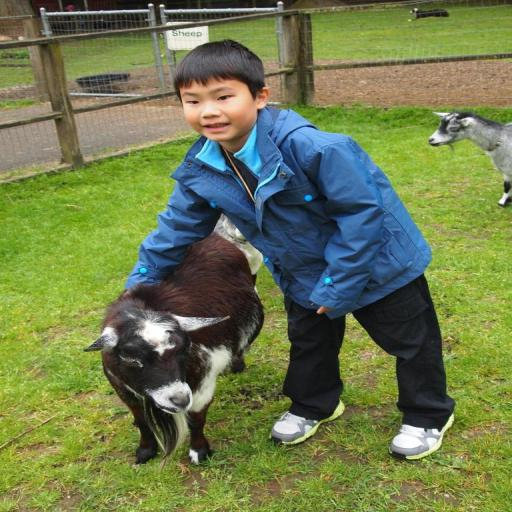Person: (124, 29, 433, 465)
no_boots: (358, 408, 411, 456), (269, 399, 322, 447)
no_goggle: (192, 90, 258, 110)
no_helmet: (186, 38, 268, 80)
none: (195, 128, 388, 320)
